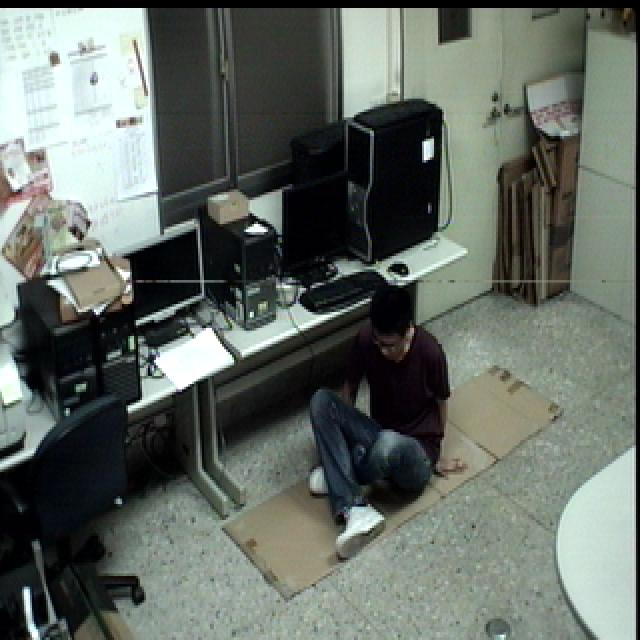sit: (303, 280, 471, 564)
